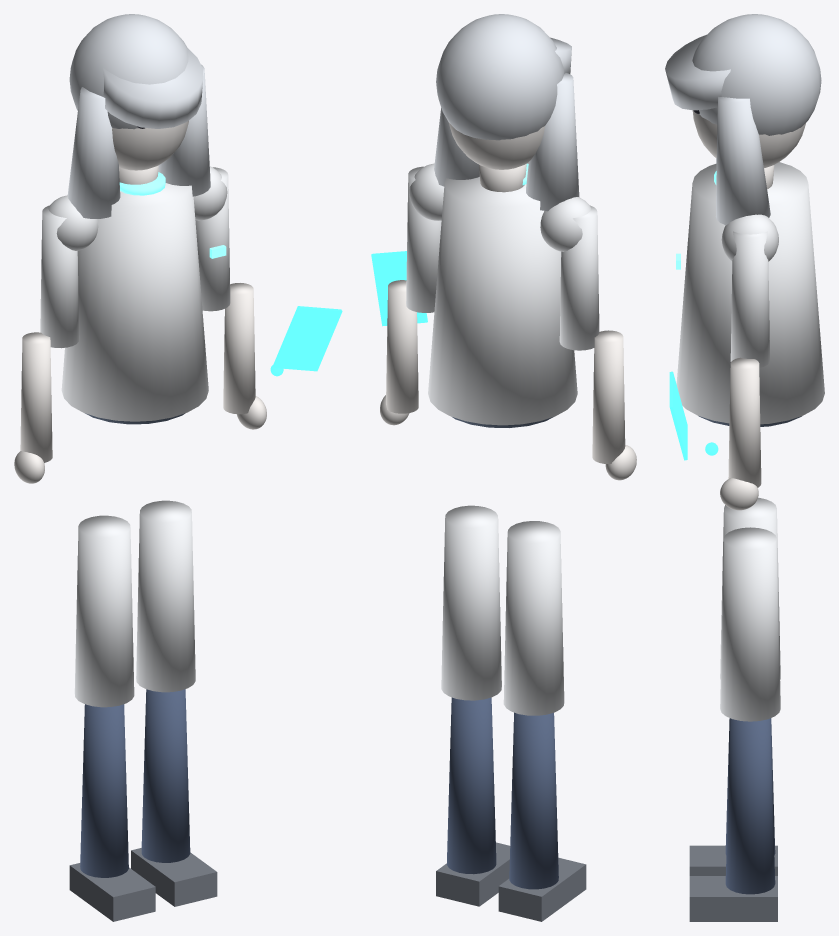
3 views of the same model, side by side, from view 1: azimuth 30°, elevation 25°; view 2: azimuth 150°, elevation 25°; view 3: azimuth 270°, elevation 25° (orthographic).
Visible parts, largest first — view 1: Torso, ThighR, ThighL, ShinL, ShinR, HairCap, BobL, FringeN, UpperArmL, ForeArmR, ForeArmL, FootL (+8 smaller); view 2: Torso, HairCap, ThighR, ThighL, ShinL, ShinR, UpperArmL, BobL, ForeArmL, ForeArmR, UpperArmR, FootL (+8 smaller); view 3: Torso, ThighR, HairCap, ShinR, BobR, UpperArmR, ForeArmR, FootR, FringeN, ThighL, Head, ShoulderR (+4 smaller).
Part boxes in pixels (<box>): Torso: <box>61,183,208,421</box>; ThighR: <box>136,500,195,692</box>; ThighL: <box>74,515,134,707</box>; ShinL: <box>80,704,128,877</box>; ShinR: <box>141,689,190,862</box>; HairCap: <box>69,14,188,129</box>; BobL: <box>67,87,120,218</box>; FringeN: <box>103,47,203,128</box>; UpperArmL: <box>40,205,79,348</box>; ForeArmR: <box>223,283,255,414</box>; ForeArmL: <box>20,332,52,462</box>; FootL: <box>69,863,155,921</box>; Torso: <box>428,162,577,425</box>; HairCap: <box>436,14,564,140</box>; ThighR: <box>441,505,501,700</box>; ThighL: <box>503,521,564,715</box>; ShinL: <box>509,712,558,889</box>; ShinR: <box>446,697,496,874</box>; UpperArmL: <box>559,205,599,350</box>; BobL: <box>526,73,579,211</box>; ForeArmL: <box>592,330,625,464</box>; ForeArmR: <box>386,280,418,413</box>; UpperArmR: <box>406,166,441,312</box>; FootL: <box>498,857,586,921</box>; Torso: <box>676,162,824,424</box>; ThighR: <box>720,527,780,721</box>; HairCap: <box>692,14,821,135</box>; ShinR: <box>725,718,775,894</box>; BobR: <box>716,96,770,225</box>; UpperArmR: <box>730,231,769,367</box>; ForeArmR: <box>728,357,761,487</box>; FootR: <box>689,876,777,921</box>; FringeN: <box>665,34,730,110</box>; ThighL: <box>720,497,780,679</box>; Head: <box>692,110,805,168</box>; ShoulderR: <box>721,214,778,261</box>.
Size of the model in its own units: 0.6157 by 1.75 by 0.2897.
